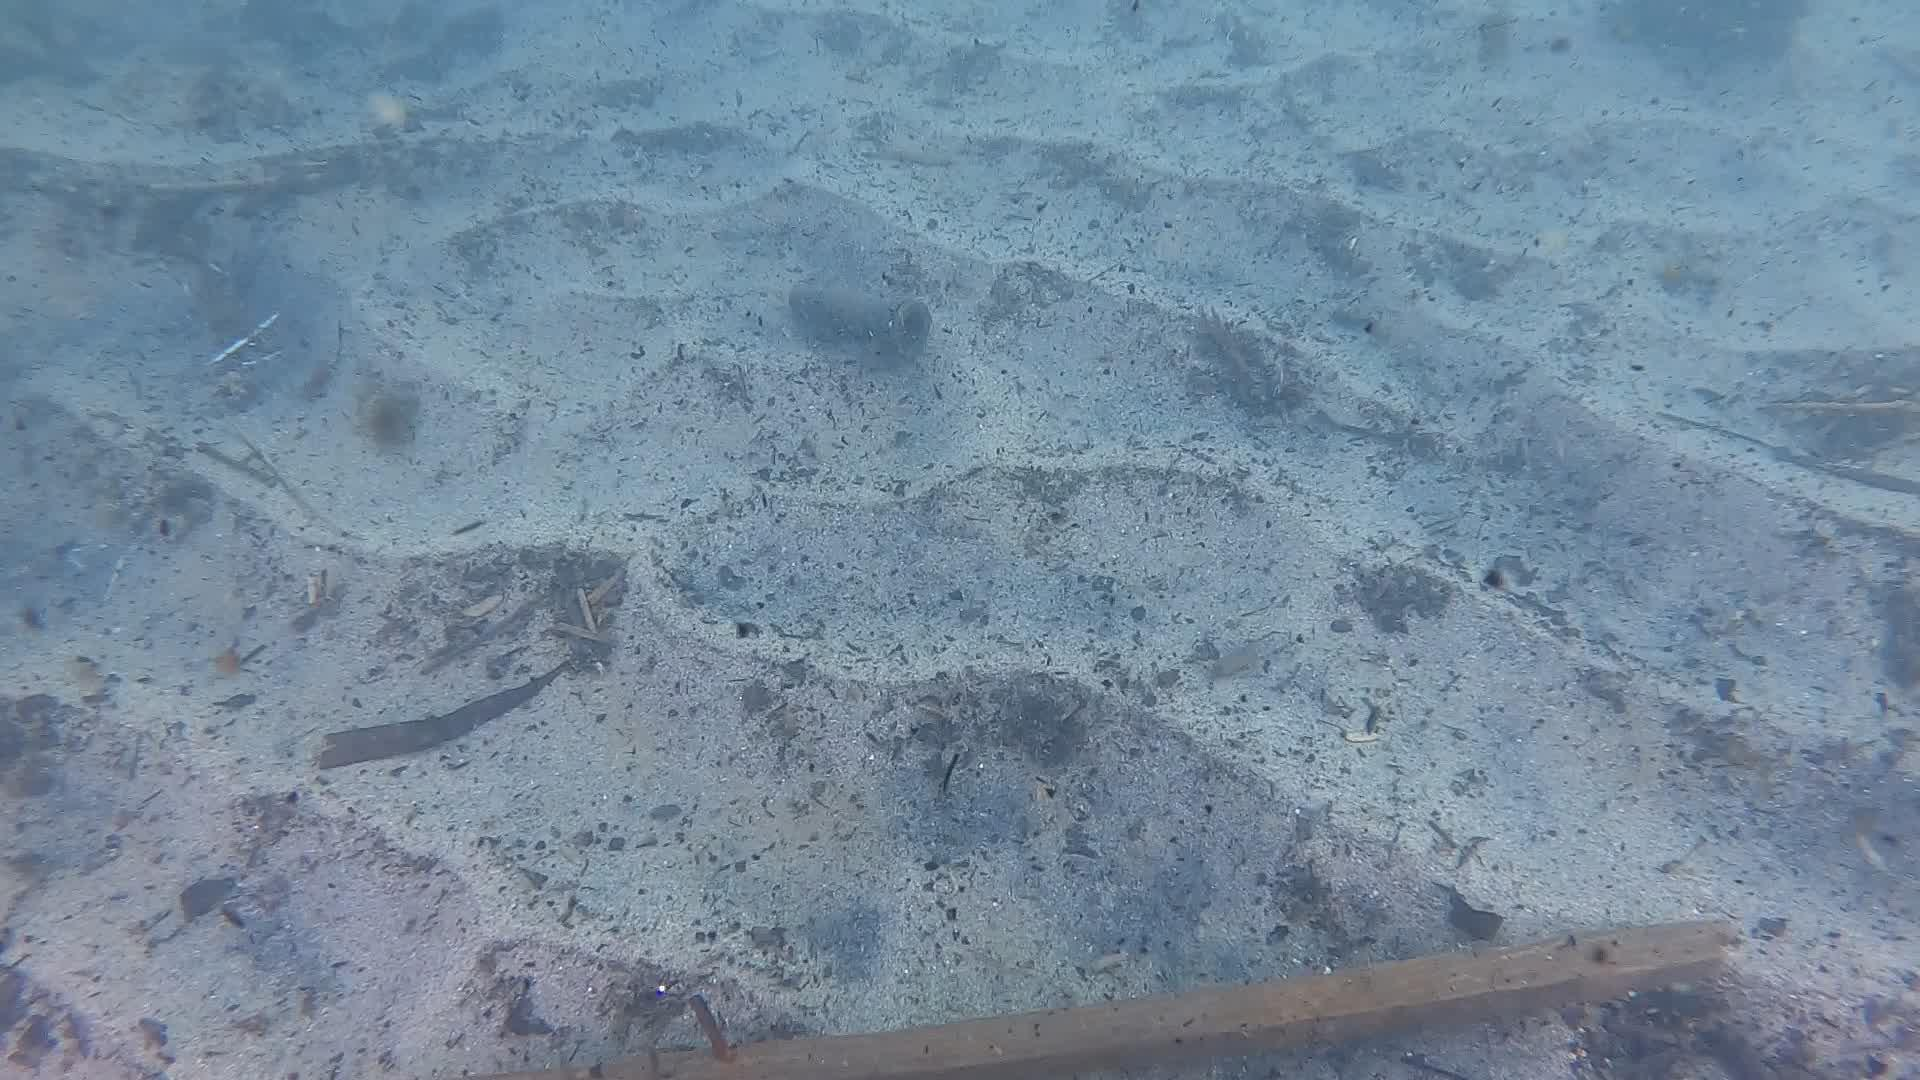wood: (589, 920, 1734, 1080)
